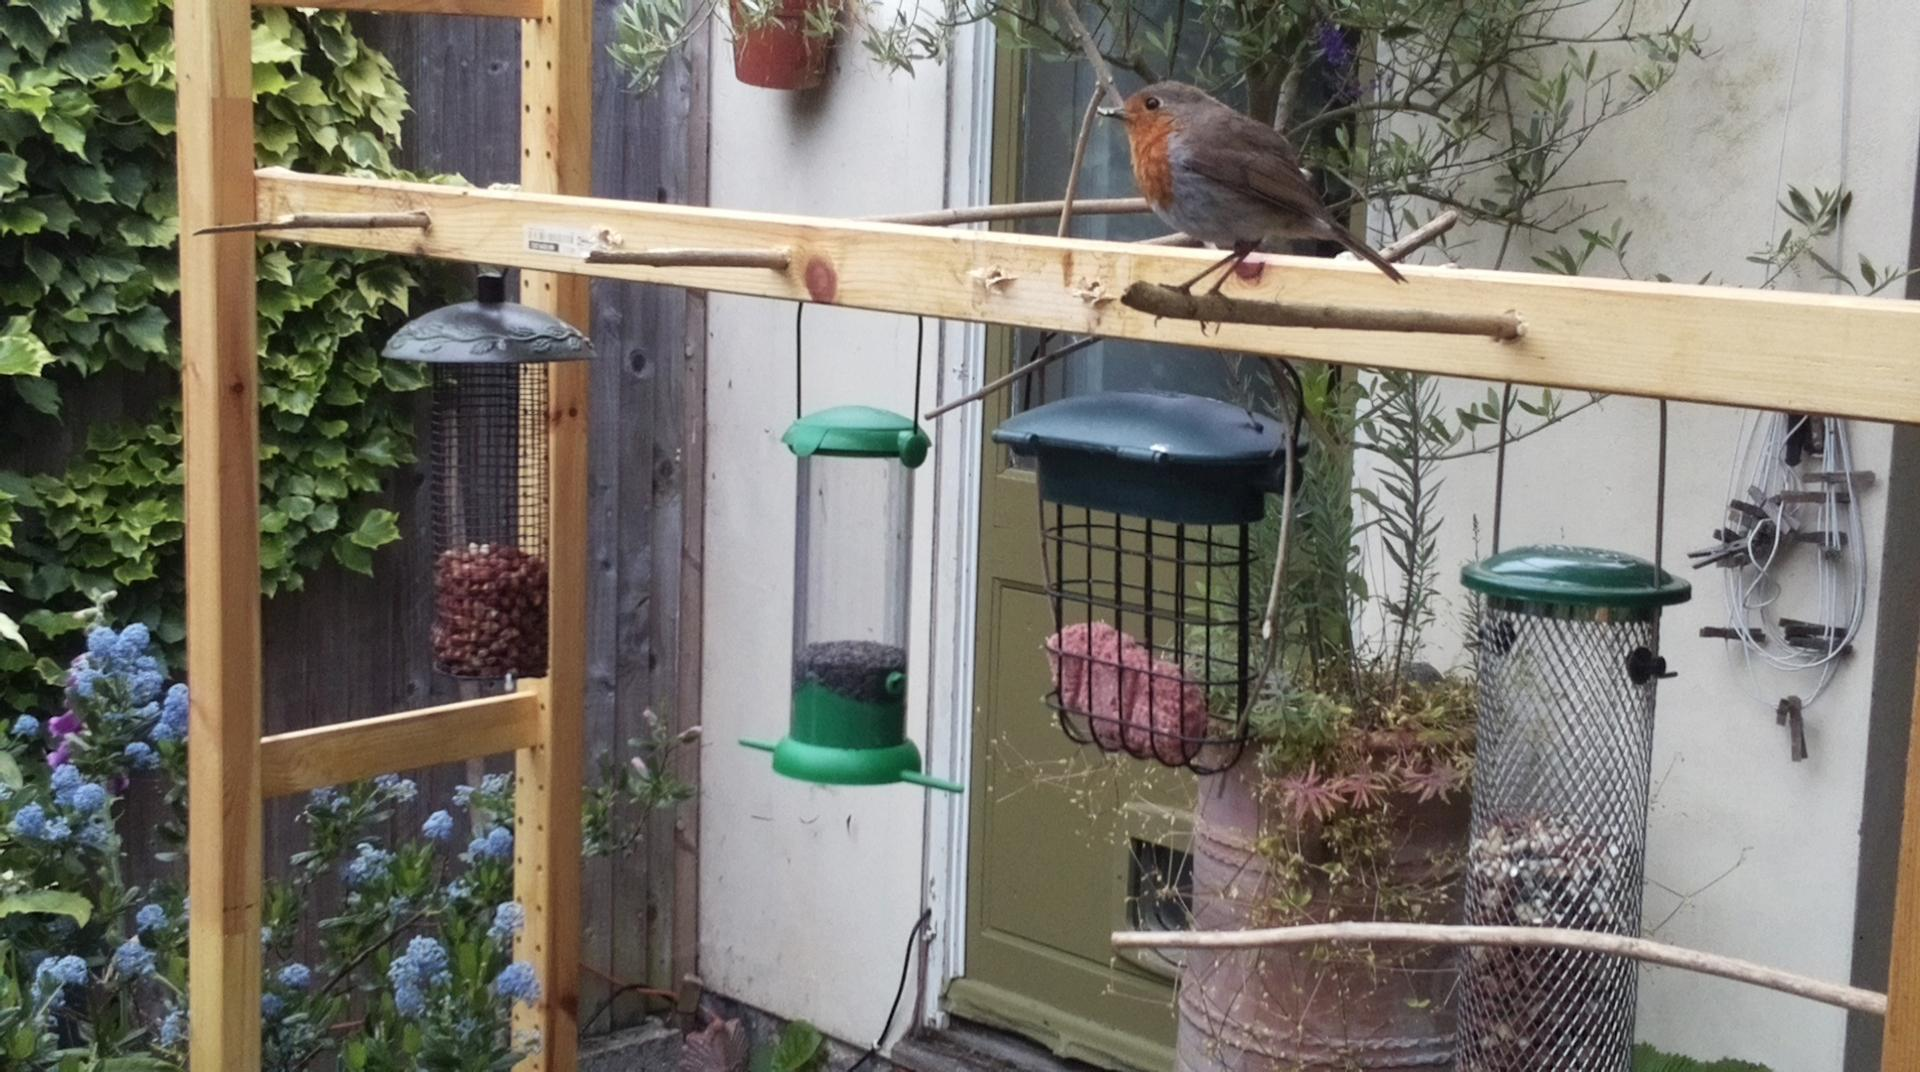robin: (1095, 79, 1410, 338)
